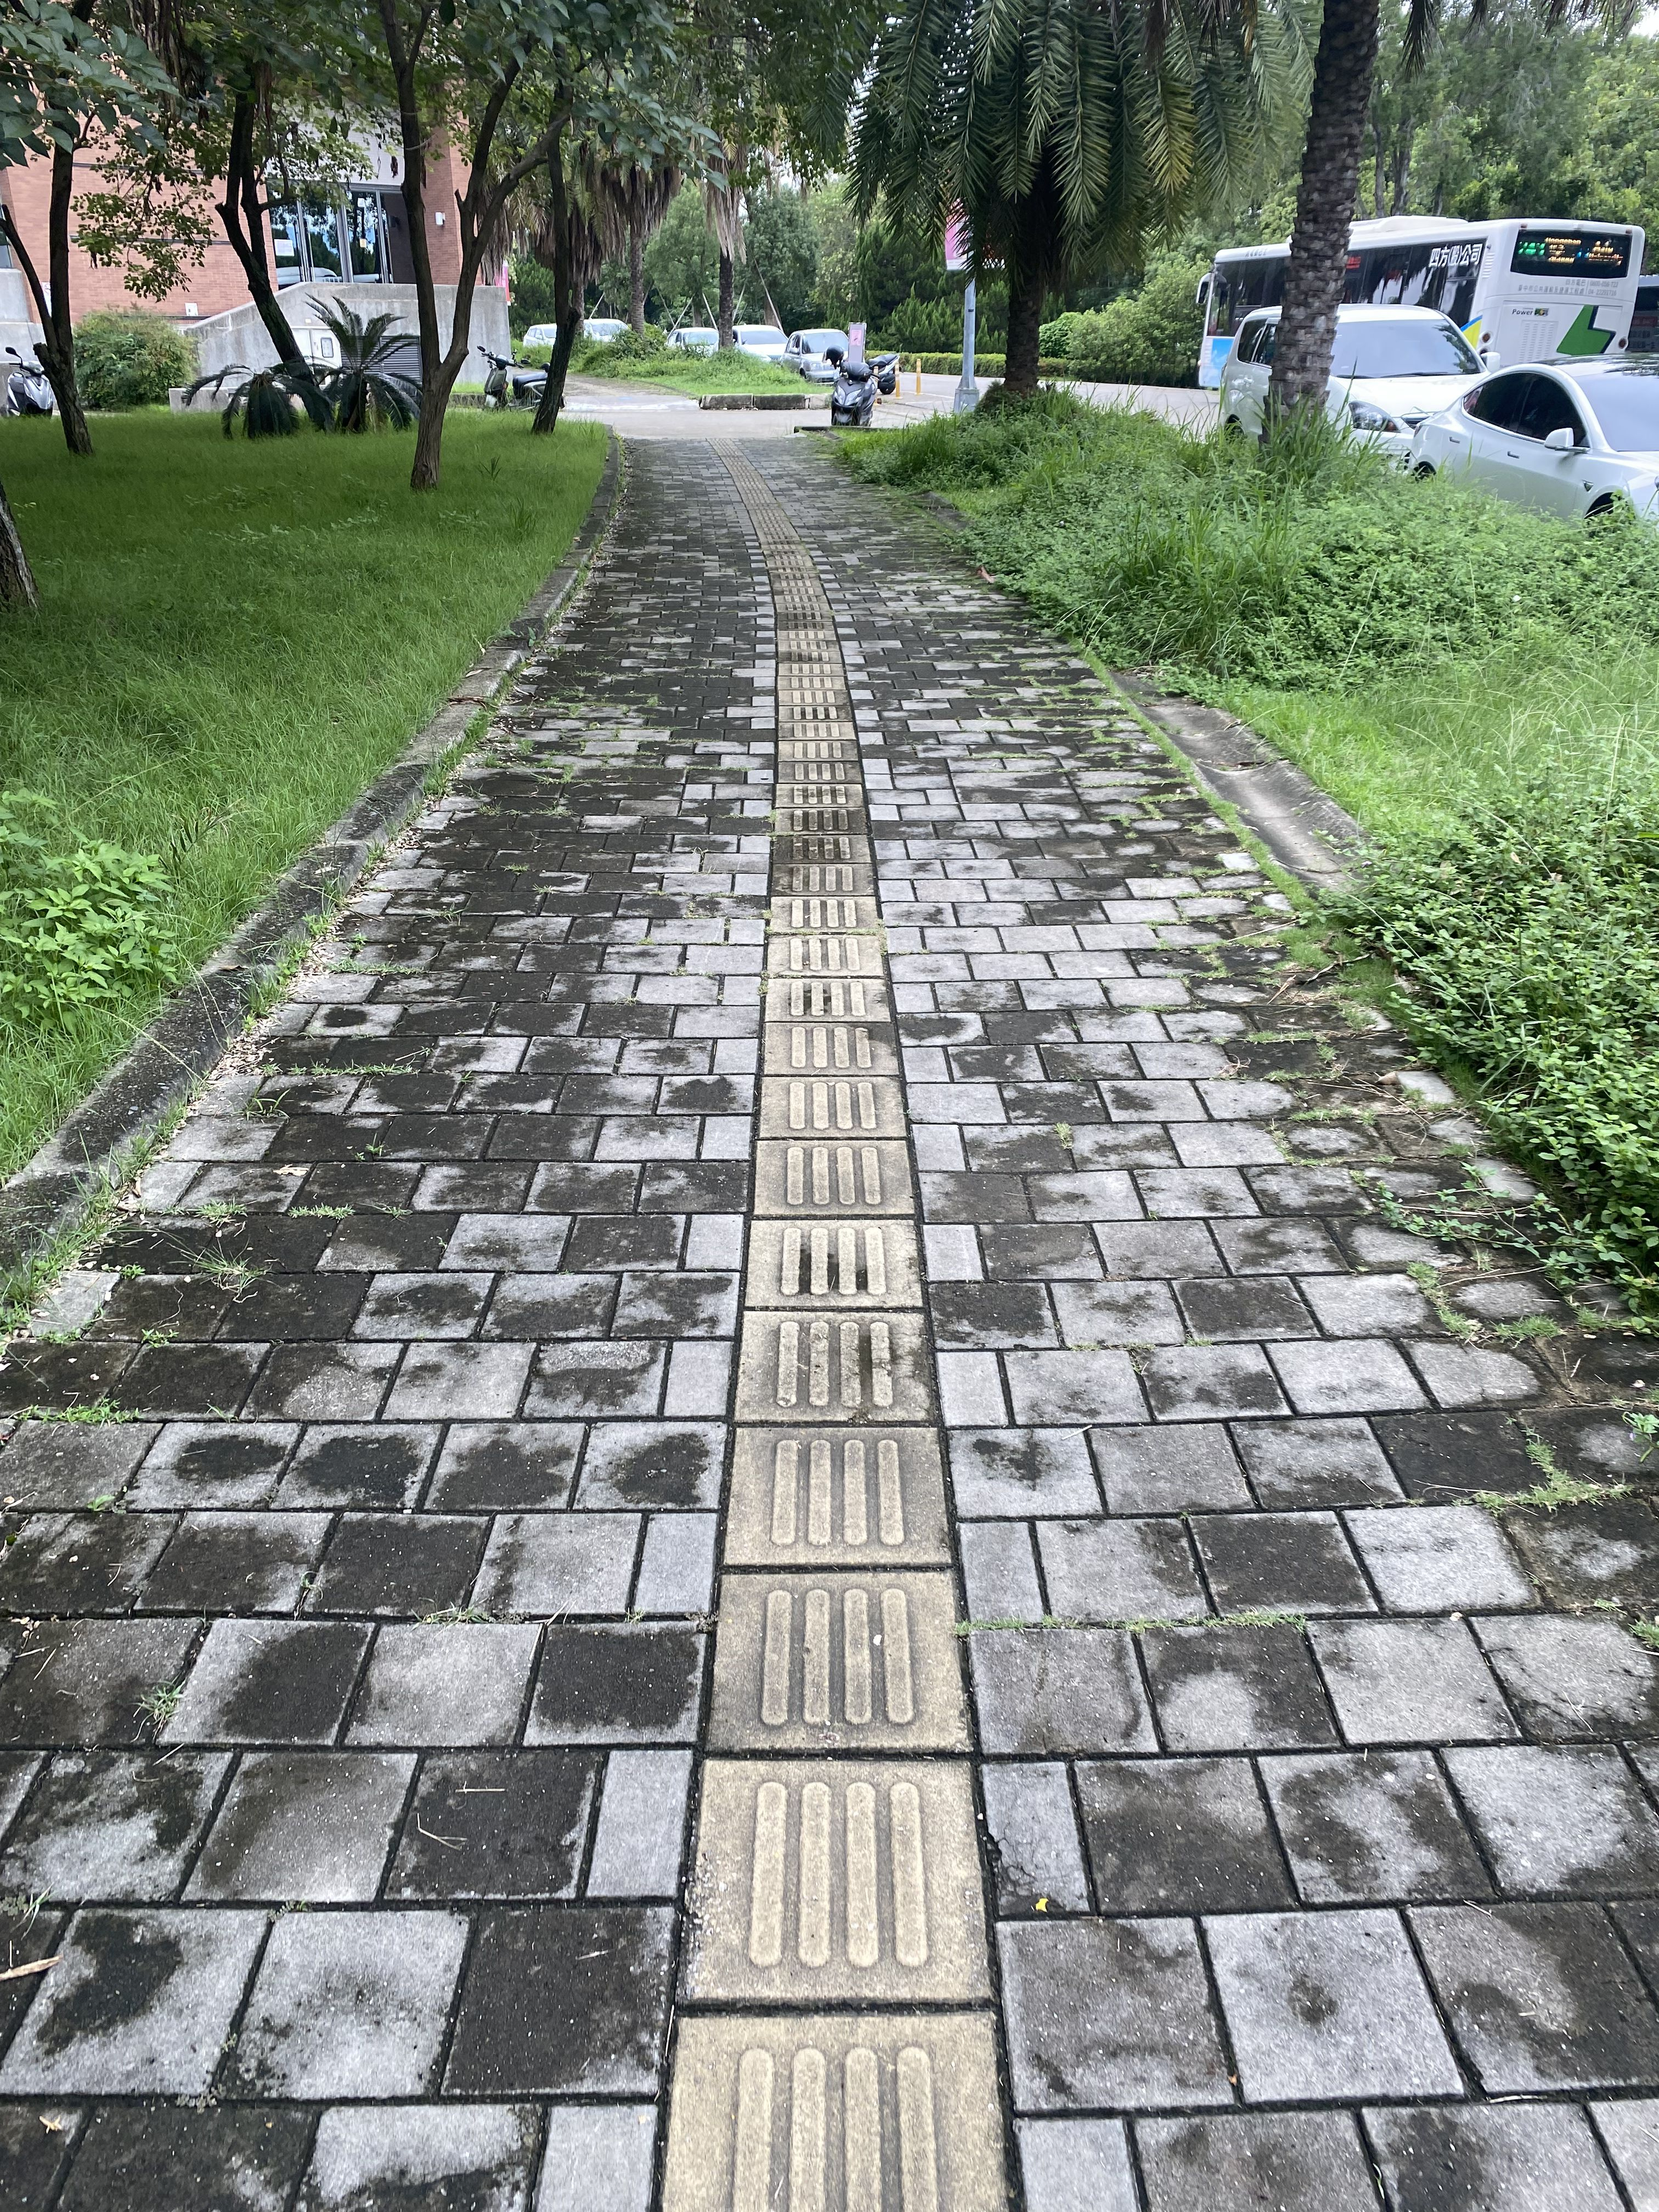sidewalk: (0, 364, 1659, 2212)
